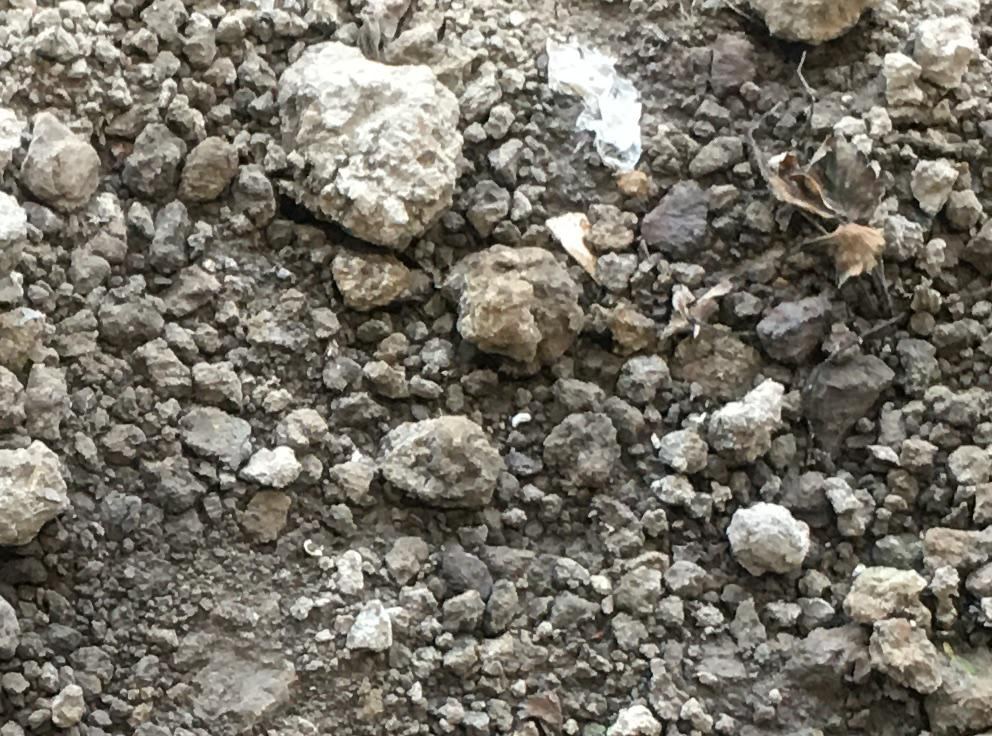block: (265, 44, 452, 250), (442, 249, 578, 368)
